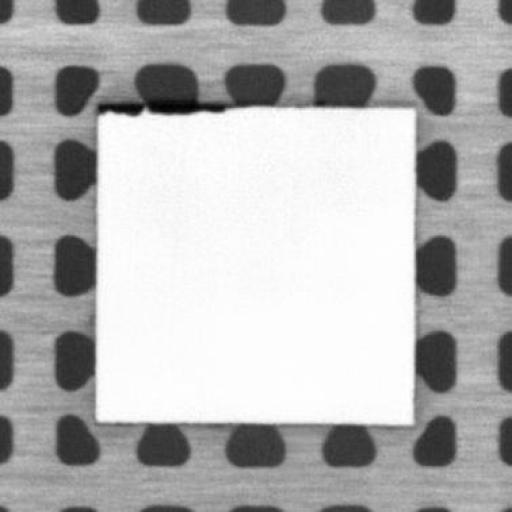DIE_BROKEN: (93, 98, 229, 114)
